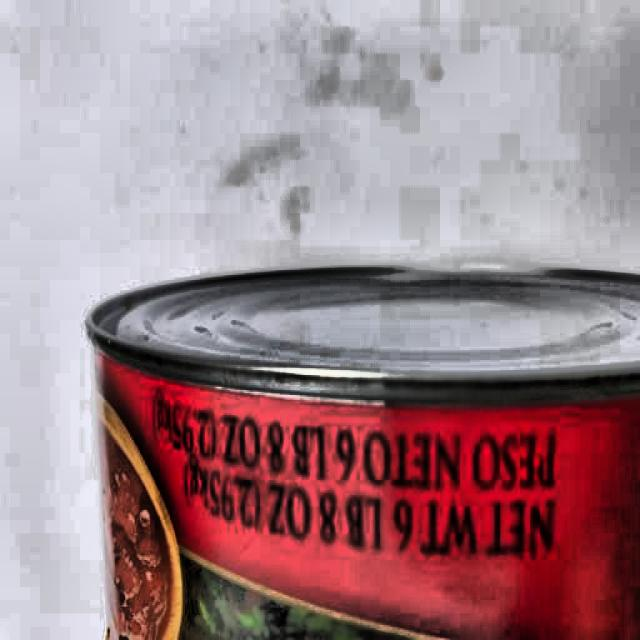metal: (83, 259, 640, 640)
